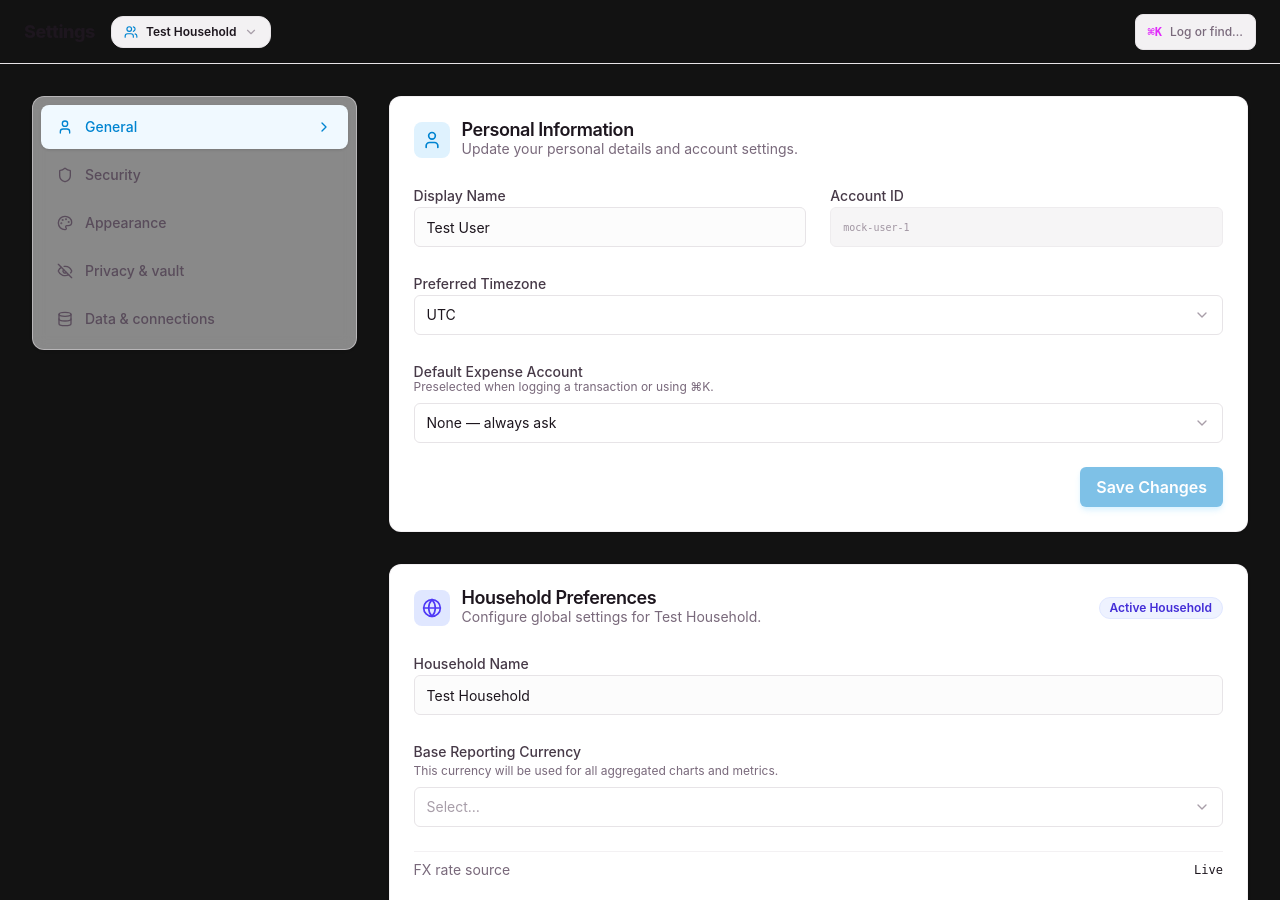
Scenario: Settings Component Integration › shows connections without DBS · SGFinDex
Click the button "Data & connections" at (194, 319), box [41, 297, 348, 341]
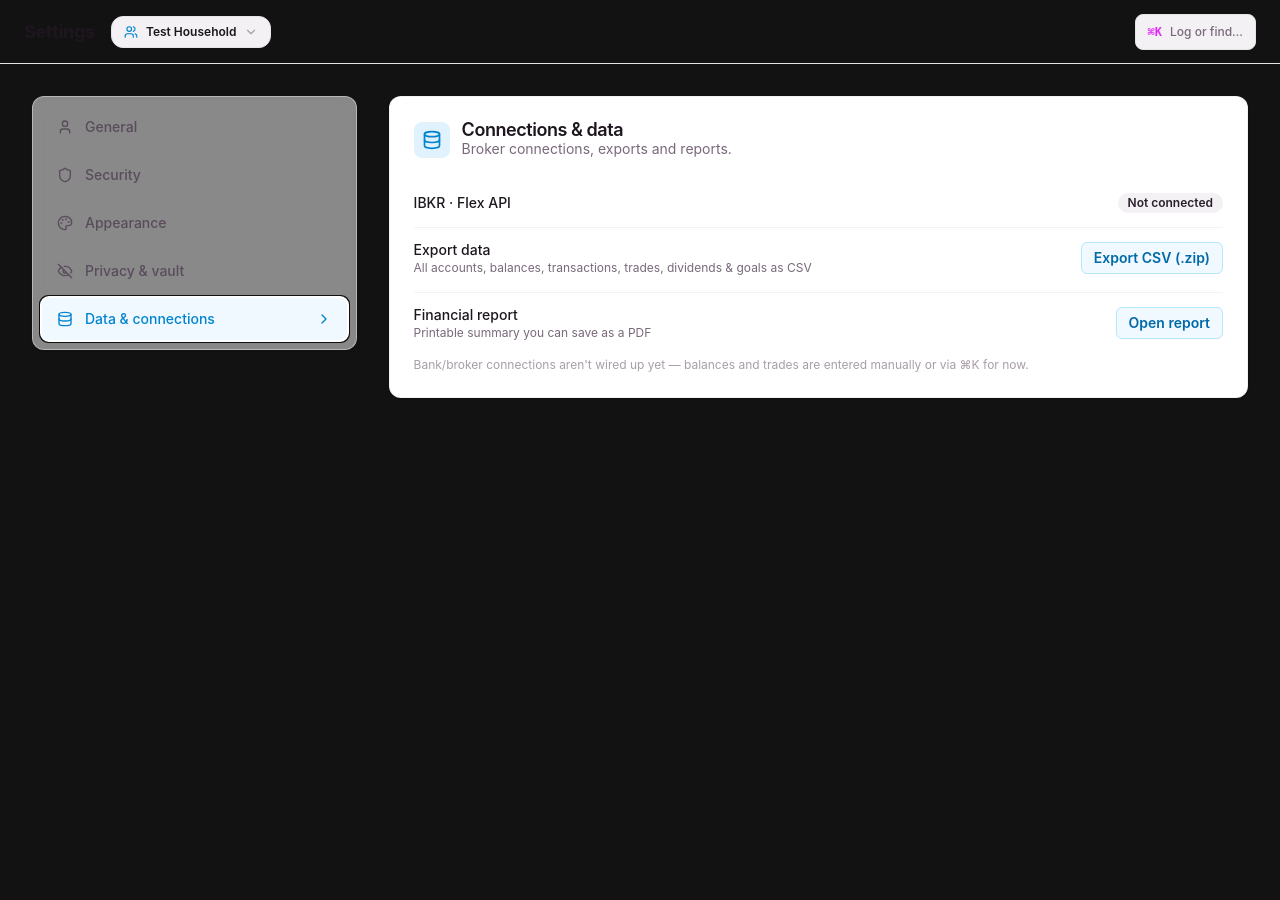
Expected: the text "IBKR · Flex API" is shown, [414, 193, 511, 213]
